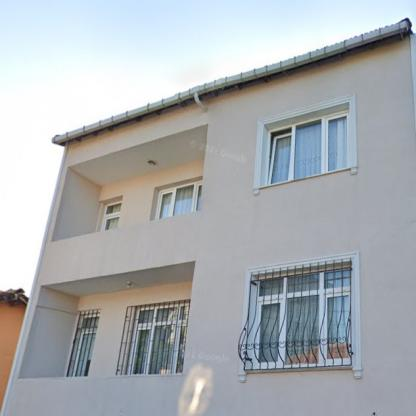window: (256, 268, 350, 367), (267, 113, 346, 184), (130, 304, 187, 375), (72, 316, 100, 376), (158, 183, 202, 218), (104, 202, 121, 230)
